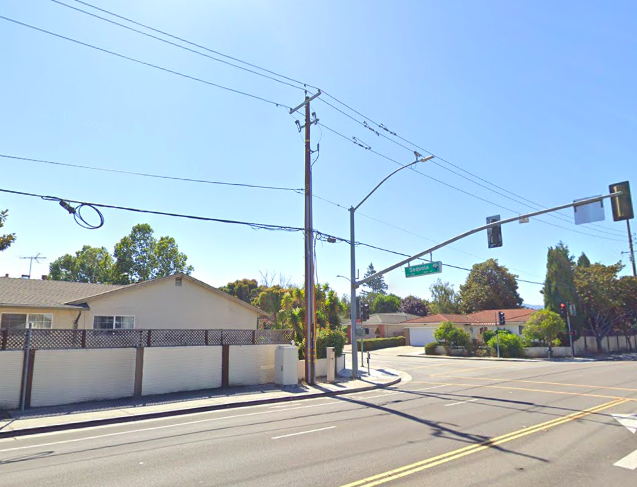utility_pole: (279, 75, 328, 151)
